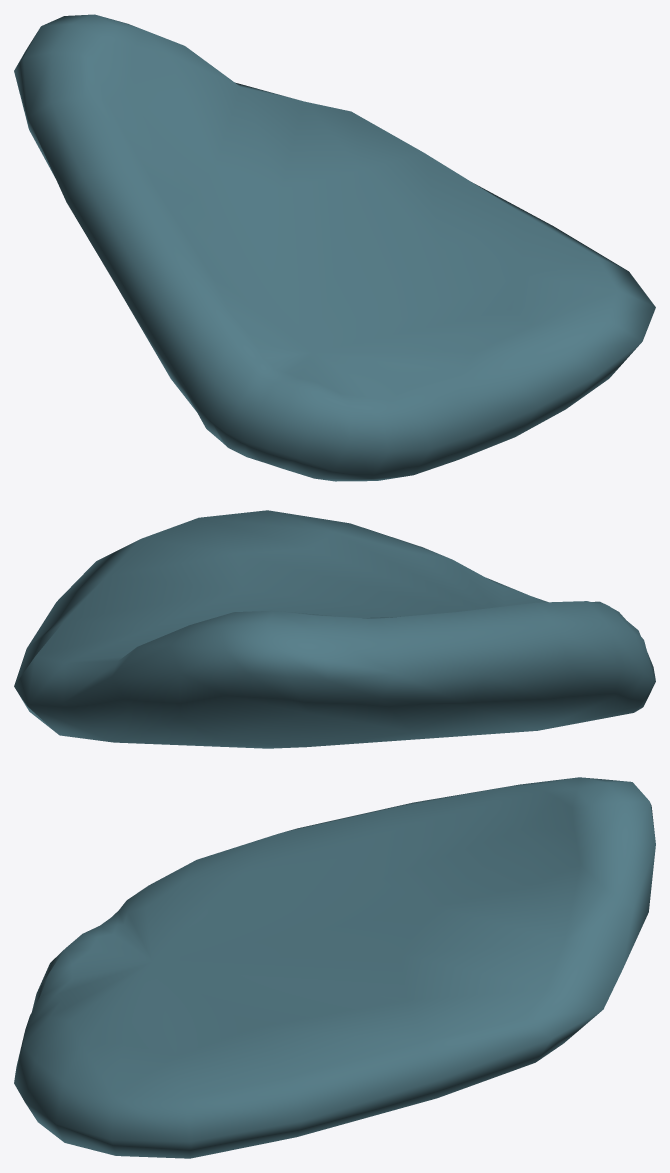
File: Flexor_digitorum_longus_5th_distal_phalanx_left.glb
The picture shows the model from 3 angles, top to bottom: view 1: azimuth 30°, elevation 25°; view 2: azimuth 150°, elevation 25°; view 3: azimuth 270°, elevation 25°; orthographic projection. The views are drawn at different scales.
Parts seen in each view (by area): view 1: Flexor_digitorum_longus_on_5th_distal_phalanx.l_Generated_Me; view 2: Flexor_digitorum_longus_on_5th_distal_phalanx.l_Generated_Me; view 3: Flexor_digitorum_longus_on_5th_distal_phalanx.l_Generated_Me.
Part boxes in pixels (bbox=[...]): Flexor_digitorum_longus_on_5th_distal_phalanx.l_Generated_Me: bbox=[14, 14, 655, 481]; Flexor_digitorum_longus_on_5th_distal_phalanx.l_Generated_Me: bbox=[14, 510, 655, 748]; Flexor_digitorum_longus_on_5th_distal_phalanx.l_Generated_Me: bbox=[14, 777, 655, 1158].
Size of the model in its own units: 0.00266 by 0.00147 by 0.00316.
